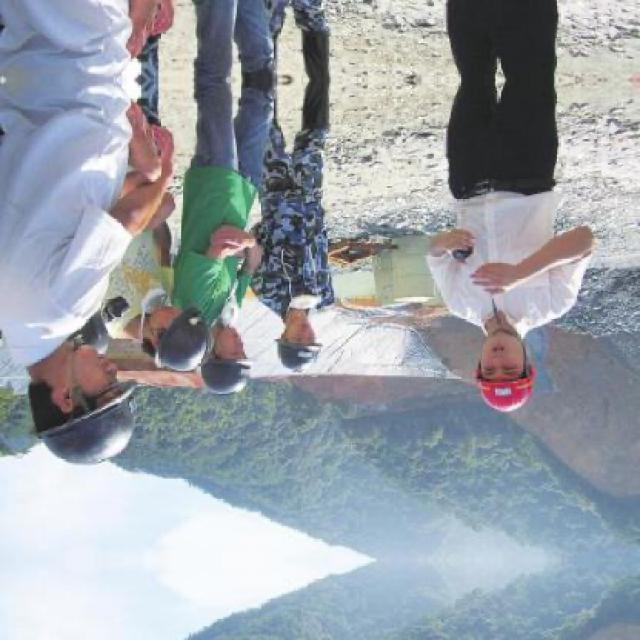con casco: (25, 354, 154, 490), (118, 299, 221, 405), (456, 316, 554, 420), (181, 304, 259, 414), (260, 293, 345, 378)
